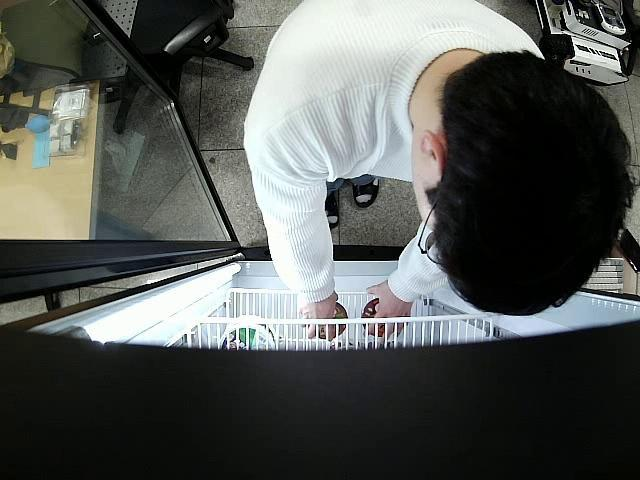06_nuguri_S: (316, 301, 348, 340), (360, 300, 386, 340)
